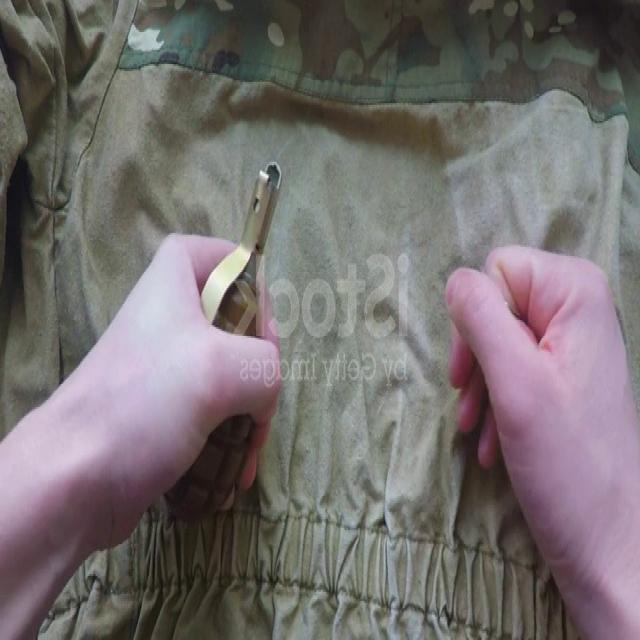grenade: (162, 157, 280, 524)
